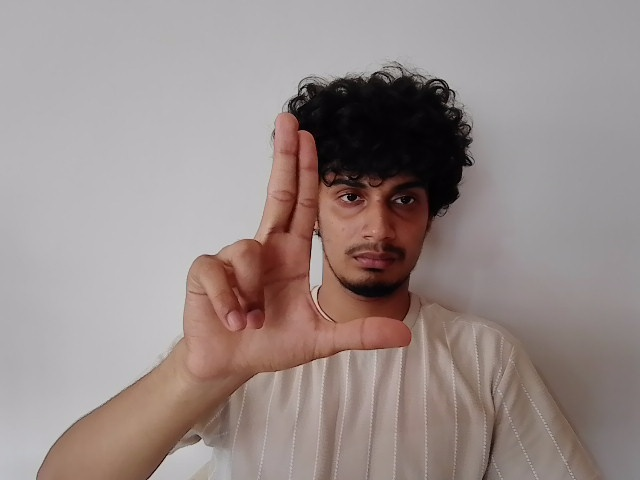no: (186, 122, 412, 360)
